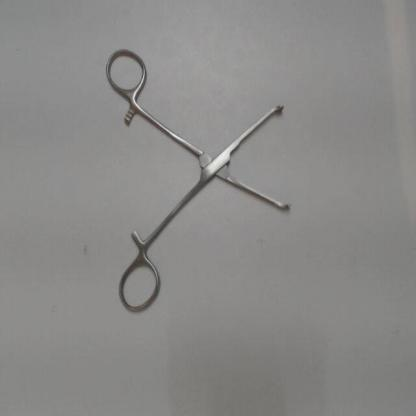Allis Tissue Forceps: (100, 42, 296, 314)
